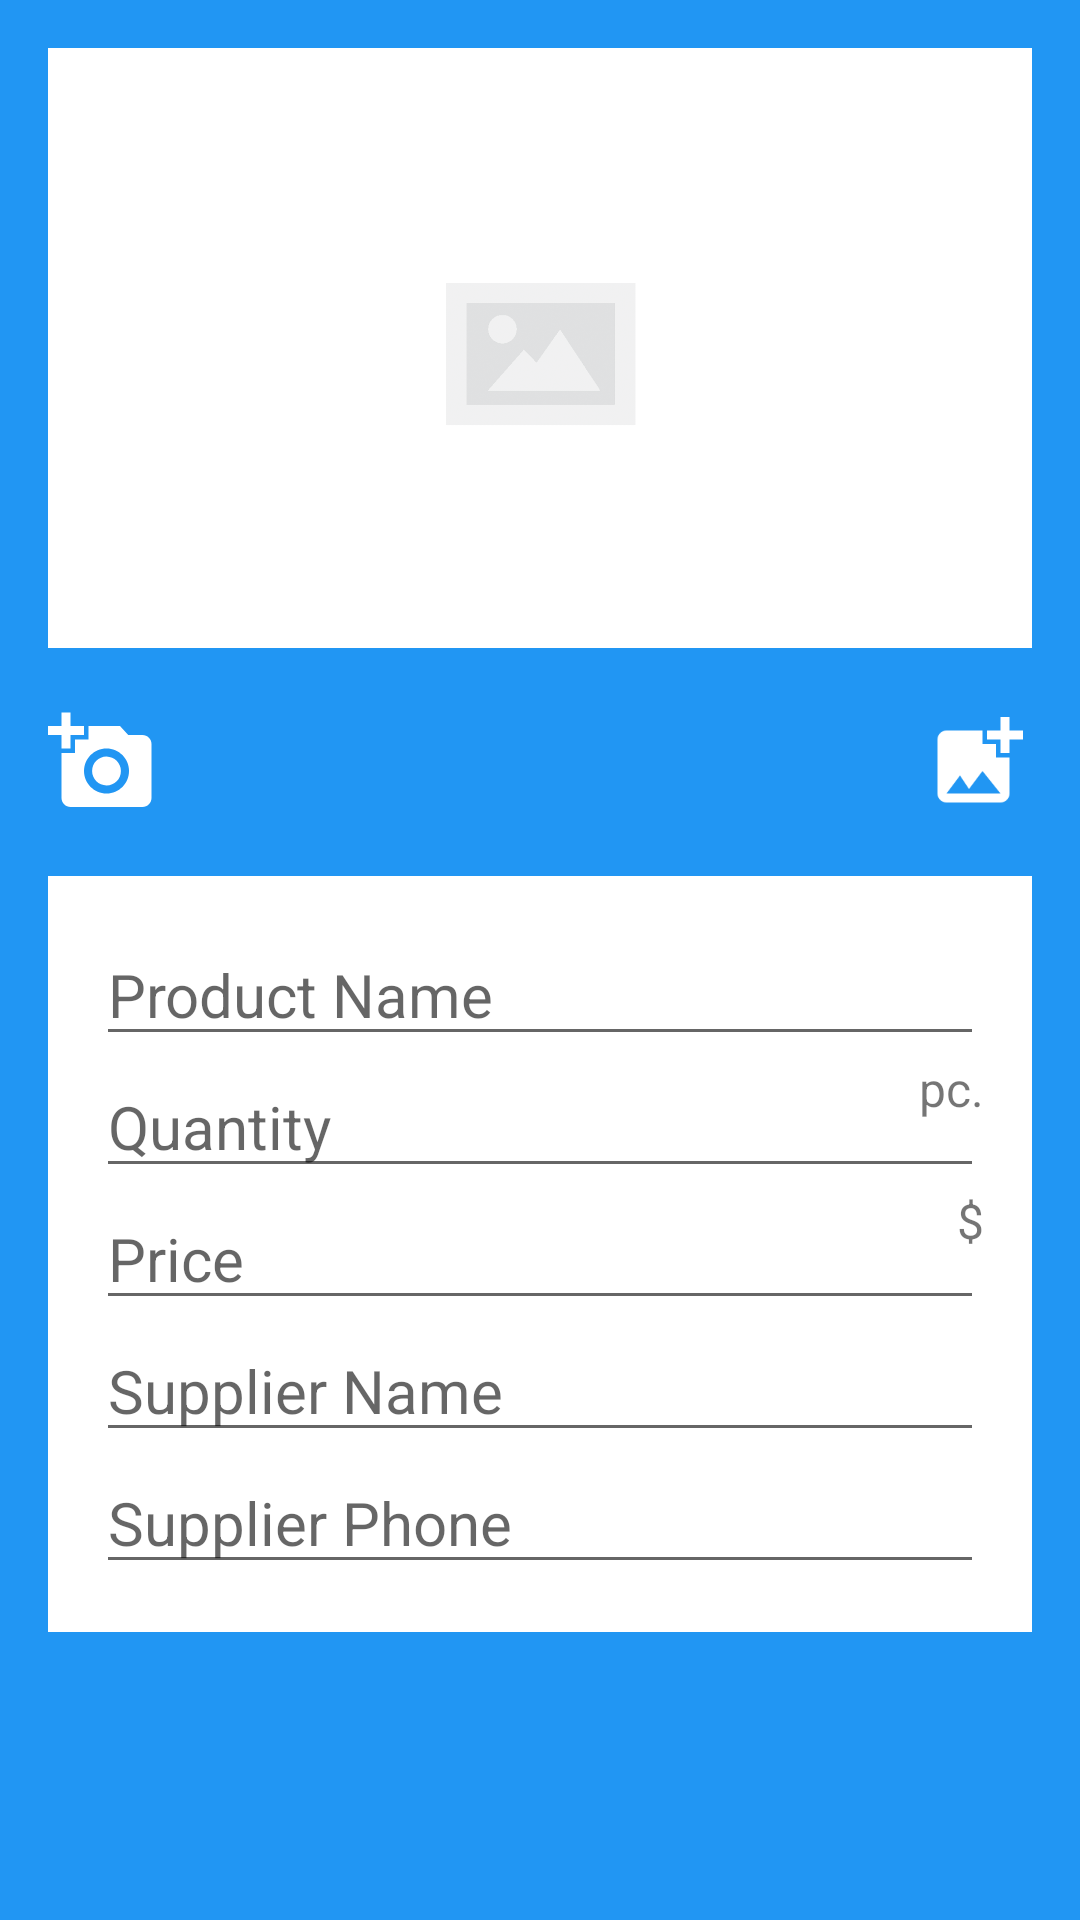

Icon click points for this 1080×1920 phone screenshot, format [x,y]:
Choose From Gallery: [980,760]
New Photo: [100,759]
